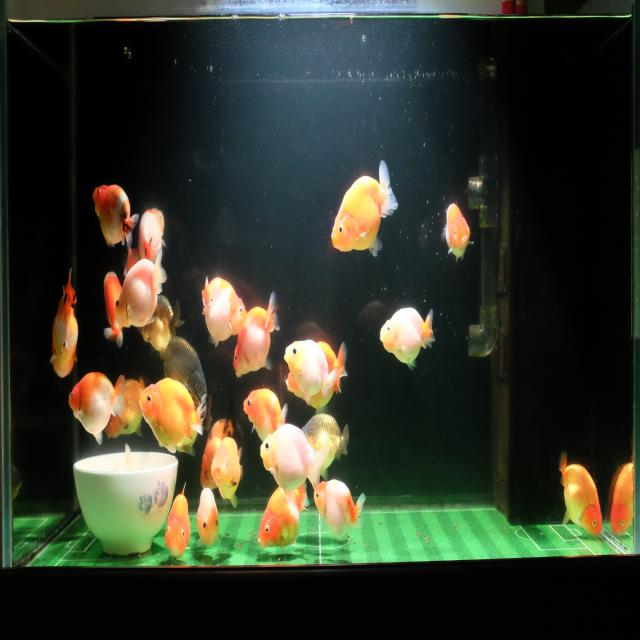Tilapia: (330, 158, 399, 260), (138, 374, 205, 454), (258, 421, 329, 493), (66, 366, 125, 449), (232, 285, 282, 382), (113, 246, 168, 333), (286, 336, 347, 410), (200, 394, 244, 494), (46, 264, 82, 382), (378, 302, 437, 373), (558, 448, 603, 539), (256, 478, 310, 553), (158, 332, 210, 406), (200, 270, 248, 350), (89, 180, 139, 250), (312, 478, 367, 541), (296, 413, 350, 476), (104, 371, 148, 443), (284, 338, 334, 398), (136, 290, 183, 353), (241, 384, 289, 445), (210, 433, 244, 511), (98, 263, 128, 350), (440, 198, 475, 268), (164, 479, 192, 561), (608, 457, 634, 542), (193, 483, 224, 551), (137, 203, 166, 267)
